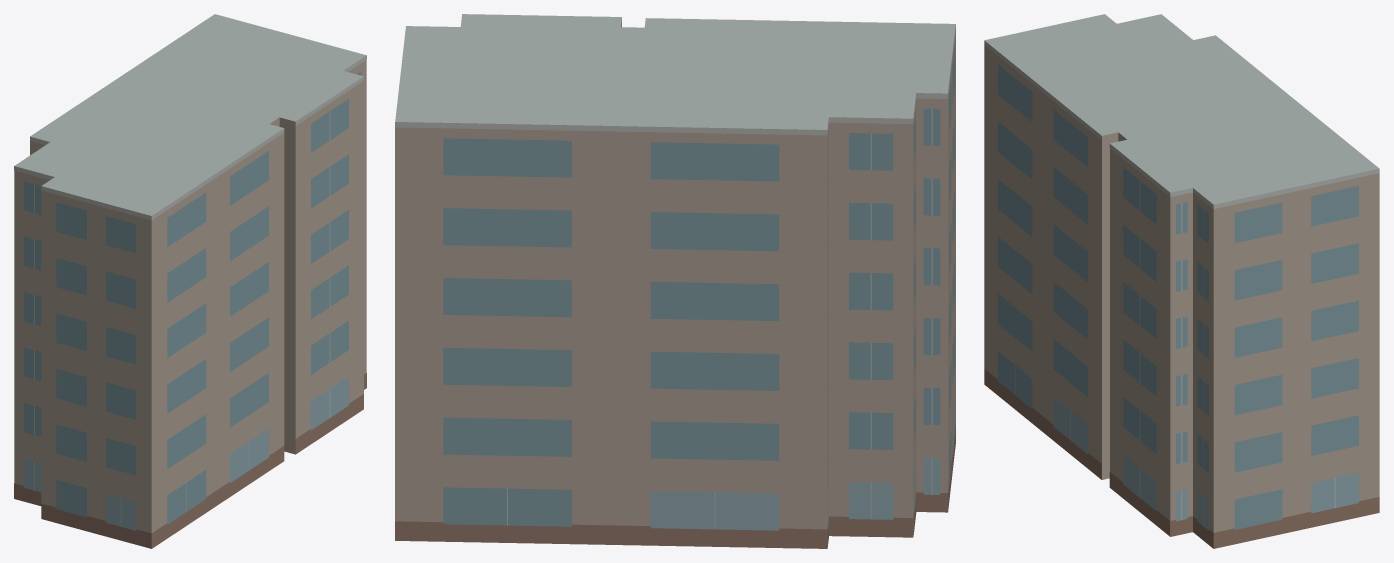
File: survey-upis-32996102.glb
The picture shows the model from 3 angles, left to right: view 1: azimuth 30°, elevation 25°; view 2: azimuth 150°, elevation 25°; view 3: azimuth 270°, elevation 25°; orthographic projection. The views are drawn at different scales.
Parts seen in each view (by area): view 1: survey-upis-32996102.tmp; view 2: survey-upis-32996102.tmp; view 3: survey-upis-32996102.tmp.
Boxes of the visible parts, x1=… form: survey-upis-32996102.tmp: x1=14, y1=14, x2=366, y2=548; survey-upis-32996102.tmp: x1=395, y1=14, x2=955, y2=548; survey-upis-32996102.tmp: x1=984, y1=14, x2=1379, y2=548.
Bounding box in the file's own units: 22.35 × 18.8 × 19.58.
